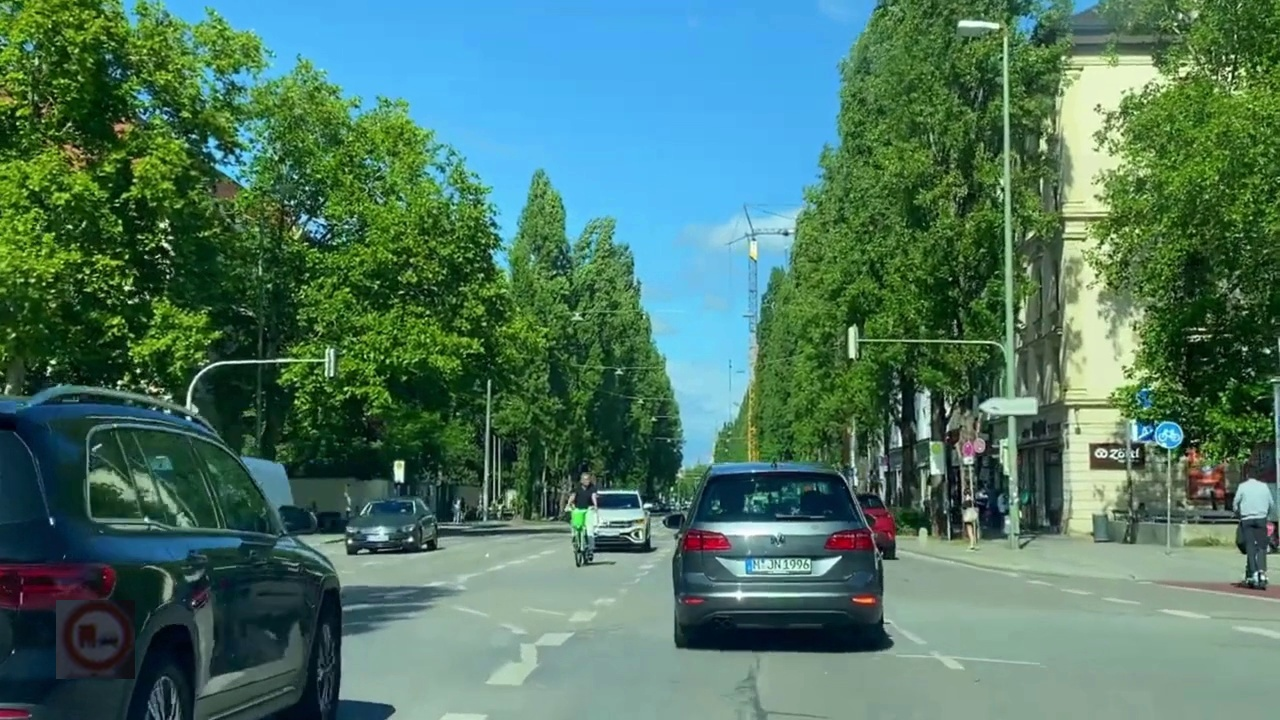No pass >3.5t: (56, 600, 135, 679)
